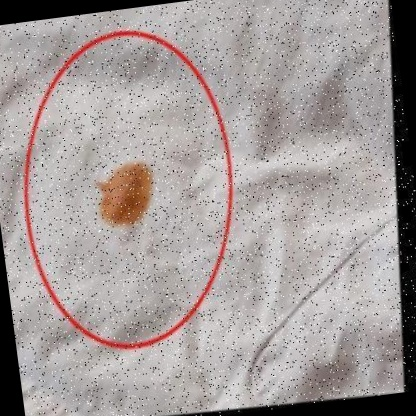kimchi: (83, 143, 173, 247)
